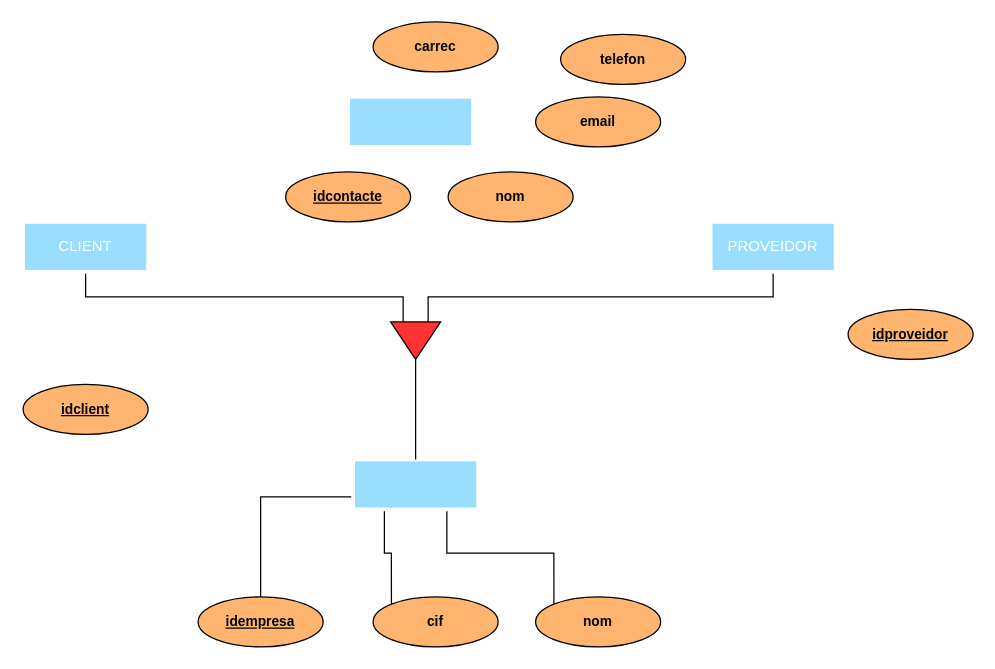
The diagram is 995 pixels wide and 669 high, and some of its shapes have lost their labels. Each missing label, with the centre of its shape:
"CONTACTE" belongs at pixel 410 121.
"EMPRESA" belongs at pixel 415 484.
